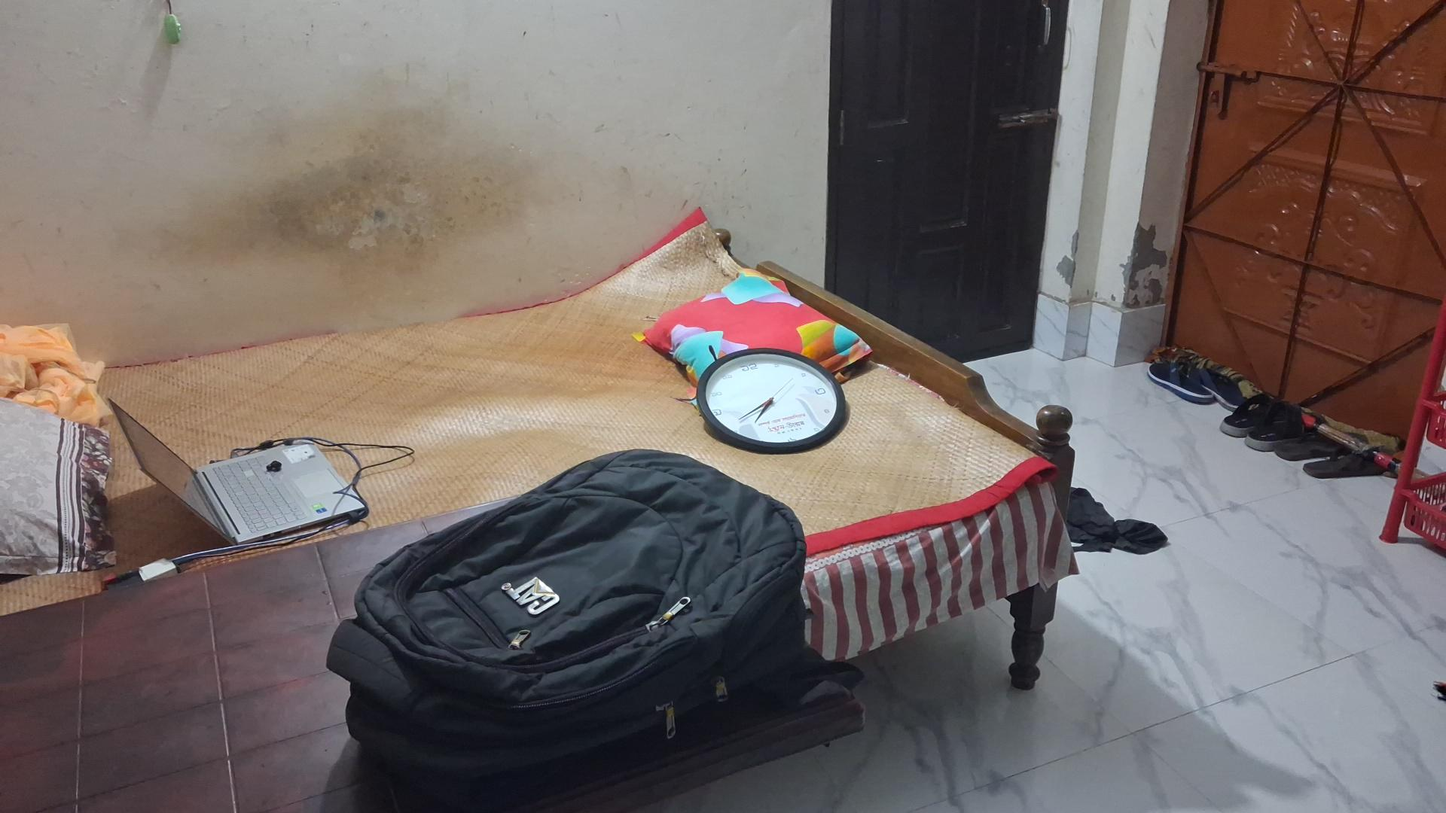Bag: (326, 446, 807, 774)
Clock: (697, 349, 848, 453)
Door: (1174, 0, 1446, 454), (818, 5, 1061, 374)
Footwear: (1143, 348, 1254, 410), (1223, 394, 1318, 459), (1290, 431, 1389, 476)
Laptop: (108, 397, 367, 544)
Pillow: (625, 270, 877, 392), (0, 390, 118, 572)
Table: (0, 523, 882, 795)
